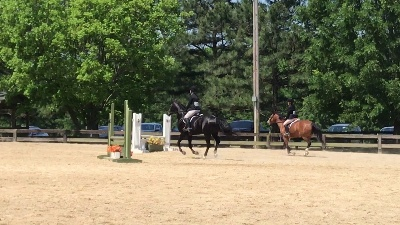jetta: (166, 97, 233, 161)
